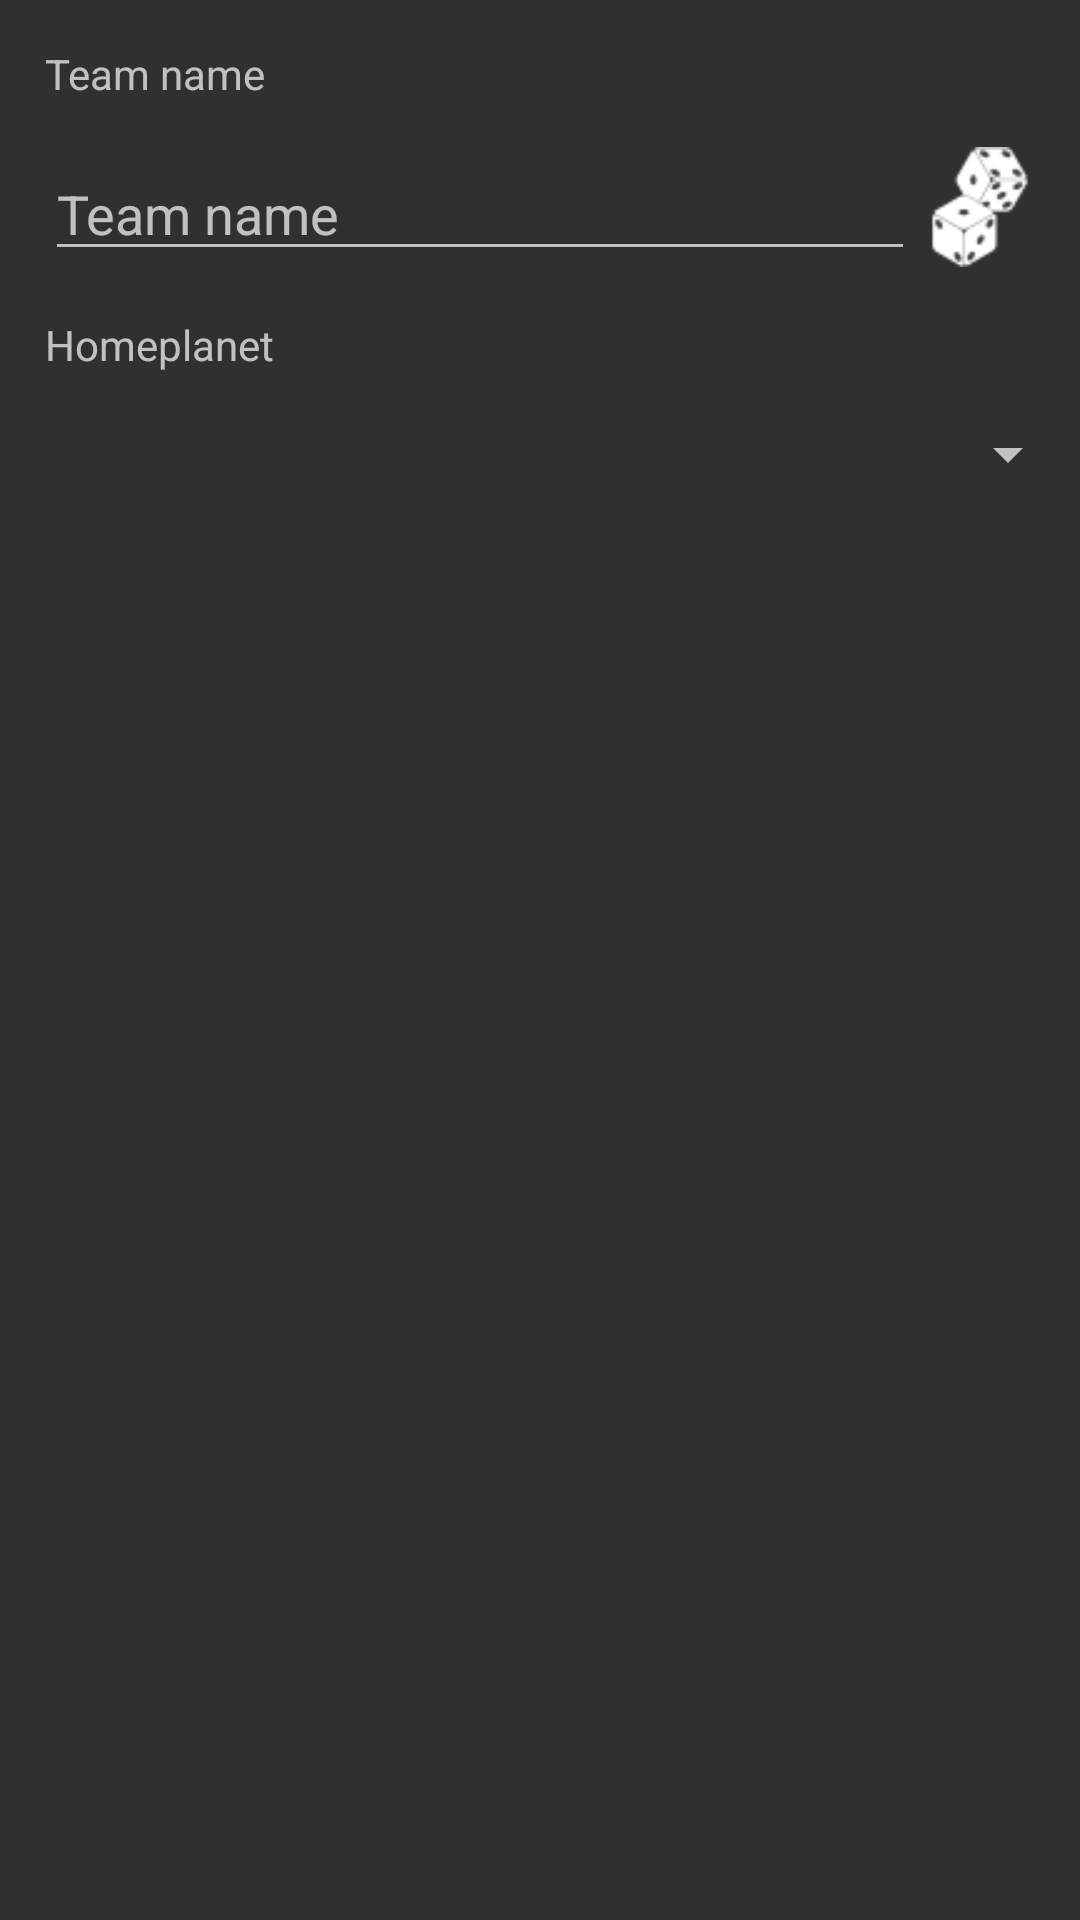

Icon click points for this 1080x1920 phone screenshot, format (x,y):
dice: (980,207)
